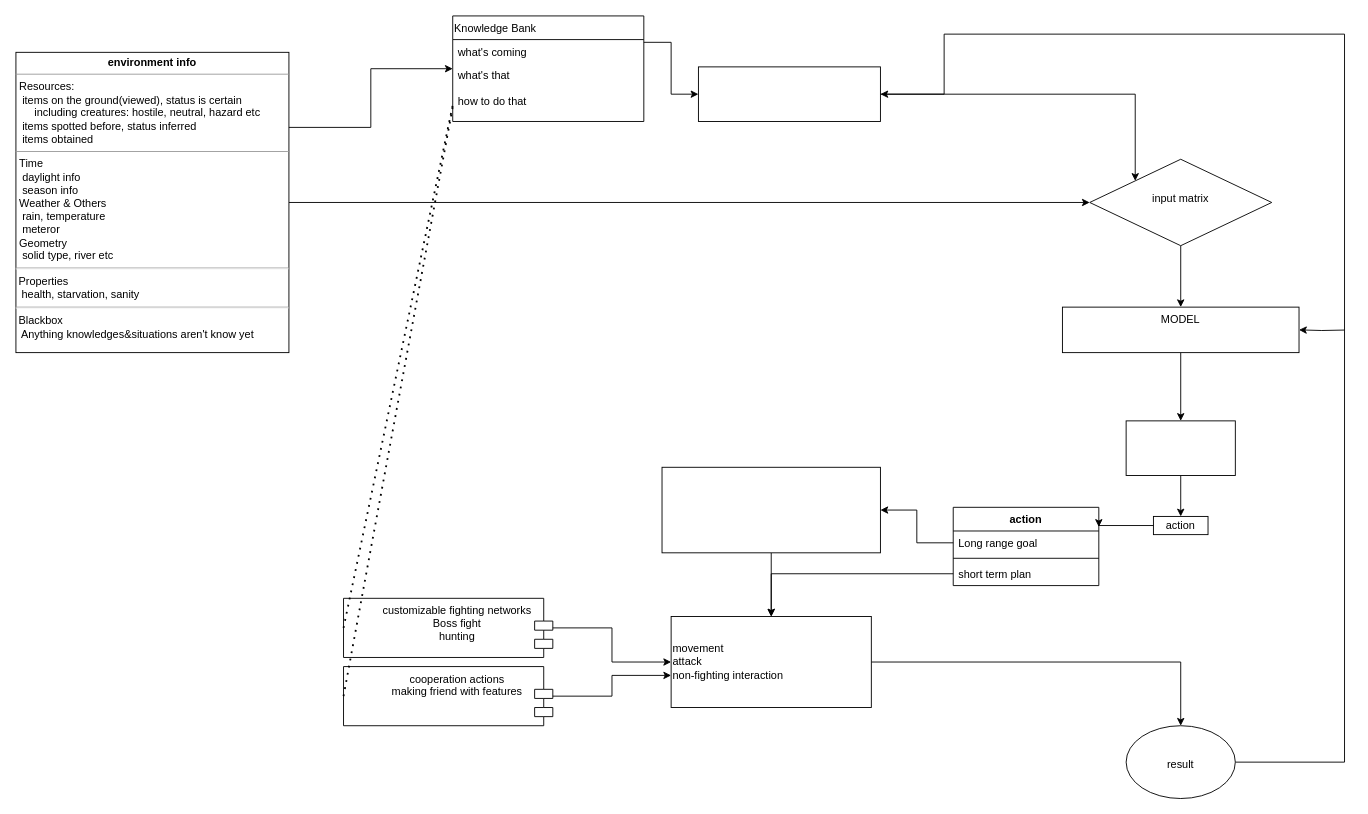
Some shapes in this 1368 by 814 pixel diagram are drawn without their labels. The shapes that lost their labels are listed below. From the top down, each one's centre as x and y in pixels, then its label:
the point at 789,93: empirical inference of uncertain data
the point at 1180,447: Agent
the point at 770,509: resource gathering: type, number going home adventure: go for the unknown
